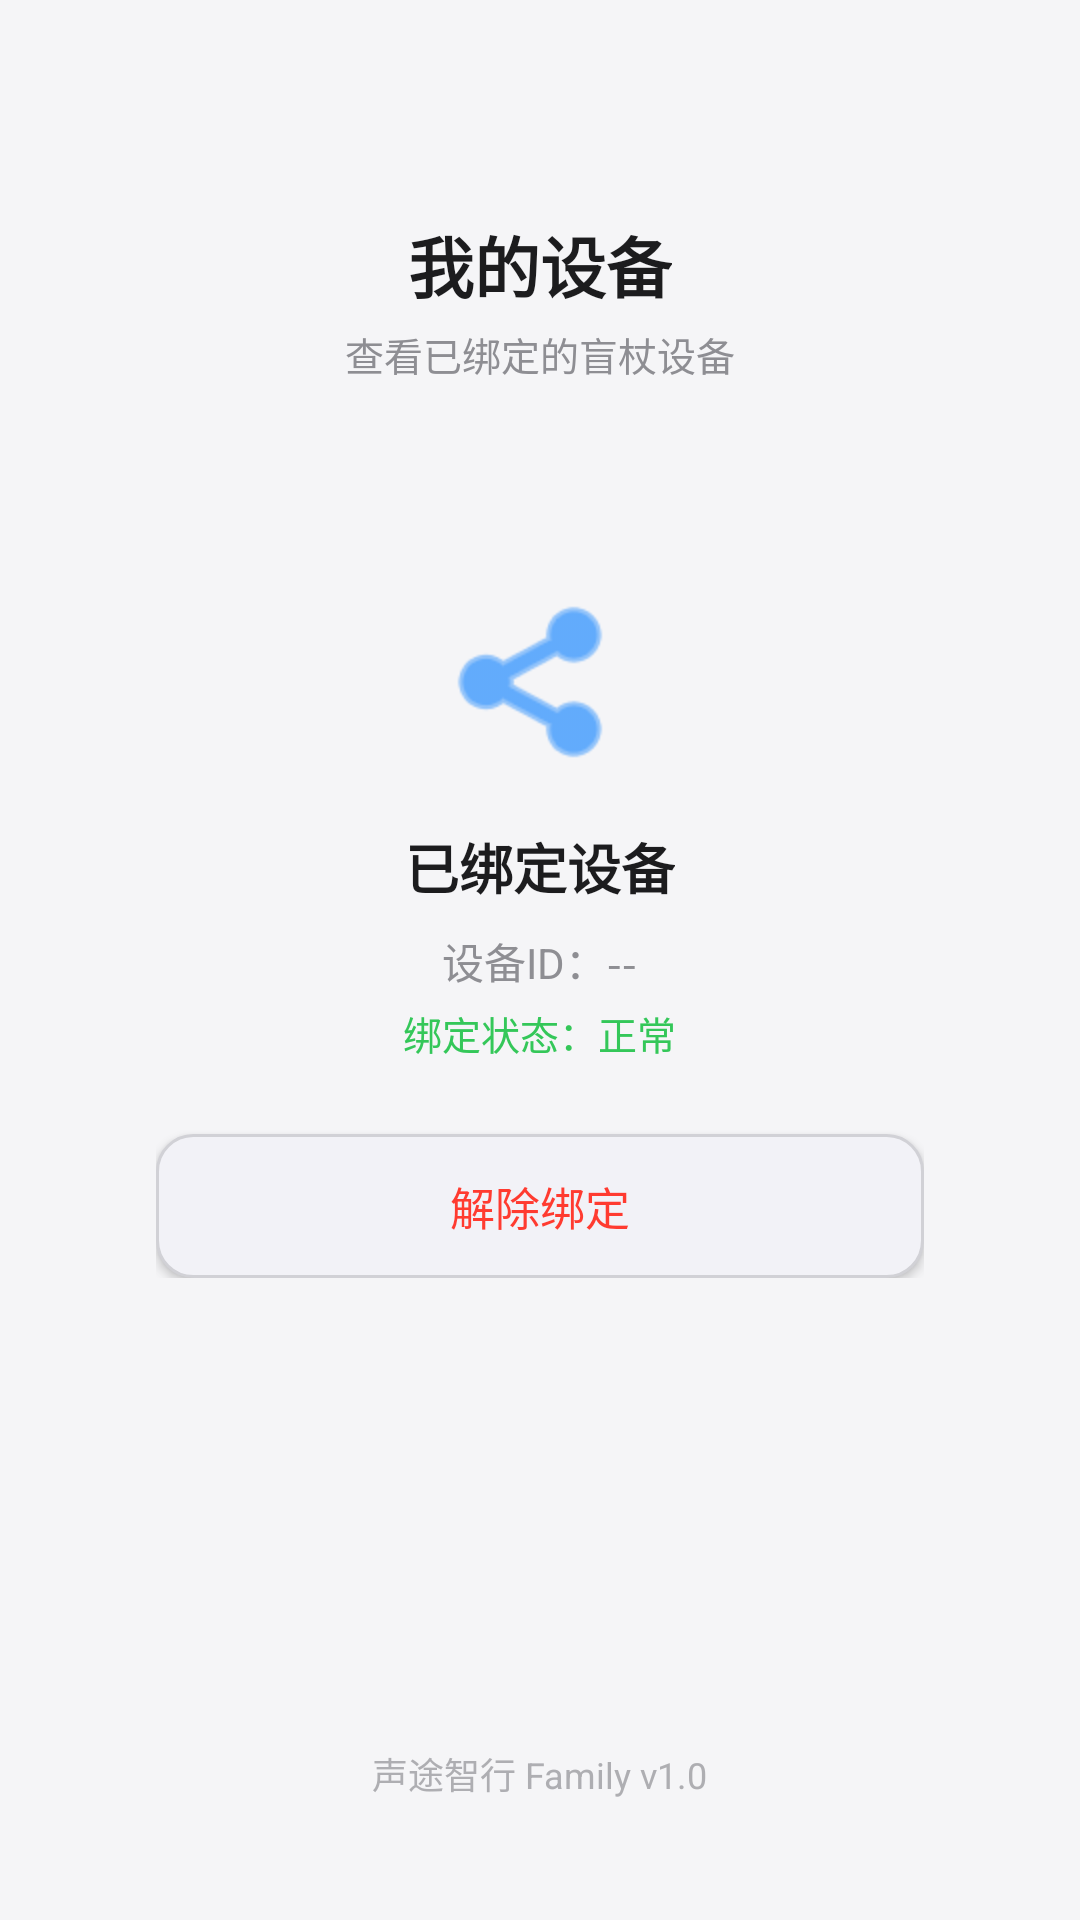

Named icons in this screenshot (1080px×1920px) and their bounding boxes, (x1, y1, x2, y2):
share: (458, 607, 602, 757)
